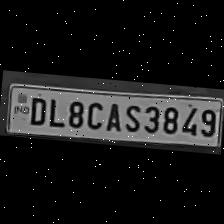3: (140, 101, 162, 134)
4: (178, 102, 199, 135)
8: (63, 95, 87, 129), (158, 102, 181, 134)
9: (194, 104, 218, 137)
A: (103, 99, 122, 131)
C: (82, 96, 106, 130)
D: (25, 92, 49, 125)
L: (44, 93, 64, 126)
S: (120, 99, 143, 132)
